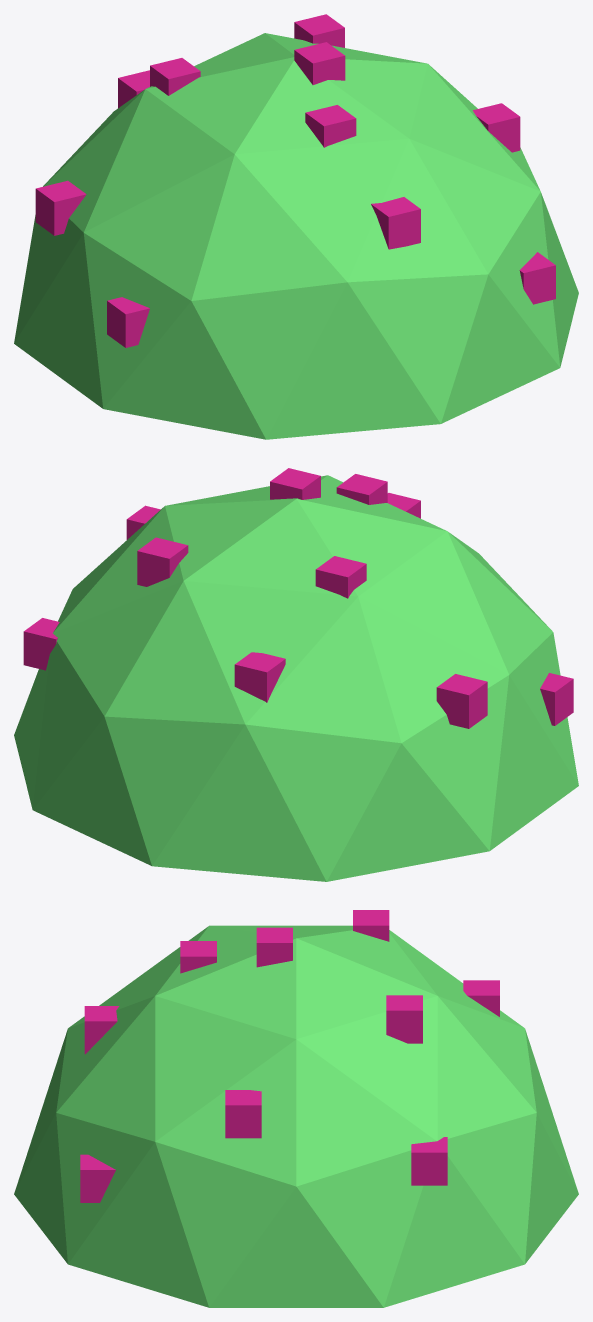
The model's file is Bush_2.fbx.
The picture shows the model from 3 angles, top to bottom: view 1: azimuth 30°, elevation 25°; view 2: azimuth 150°, elevation 25°; view 3: azimuth 270°, elevation 25°; orthographic projection. The views are drawn at different scales.
Parts seen in each view (by area): view 1: Icosphere; view 2: Icosphere; view 3: Icosphere.
Boxes of the visible parts, <box> form: Icosphere: <box>14,14,578,439</box>; Icosphere: <box>14,468,578,881</box>; Icosphere: <box>14,910,578,1307</box>.
Size of the model in its own units: 114 by 62.06 by 120.
